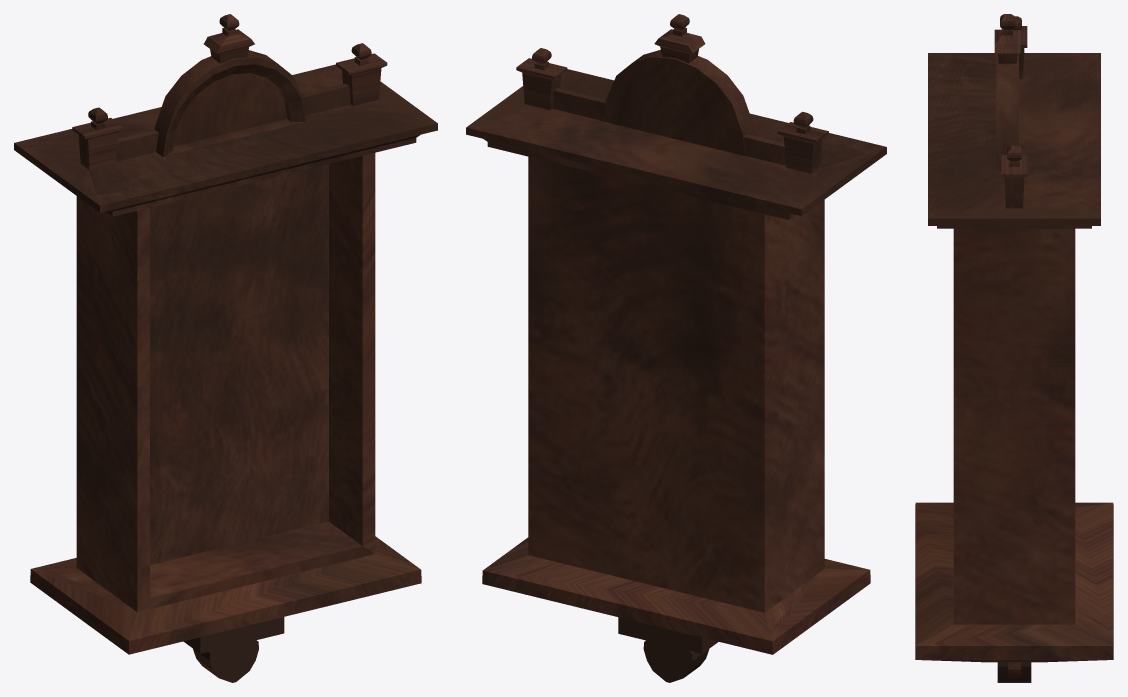
Rendered from ClockCoverShell.fbx.
3 views of the same model, side by side, from view 1: azimuth 30°, elevation 25°; view 2: azimuth 150°, elevation 25°; view 3: azimuth 270°, elevation 25° (orthographic).
Visible parts, largest first — view 1: pasted__pasted__pasted__polySurface9; view 2: pasted__pasted__pasted__polySurface9; view 3: pasted__pasted__pasted__polySurface9.
Part boxes in pixels (left/top/right/bottom): pasted__pasted__pasted__polySurface9: left=14, top=14, right=437, bottom=682; pasted__pasted__pasted__polySurface9: left=466, top=14, right=886, bottom=682; pasted__pasted__pasted__polySurface9: left=915, top=14, right=1113, bottom=682.
Bounding box in the file's own units: 161 × 301 × 81.29.
1 material, 1 textured.
